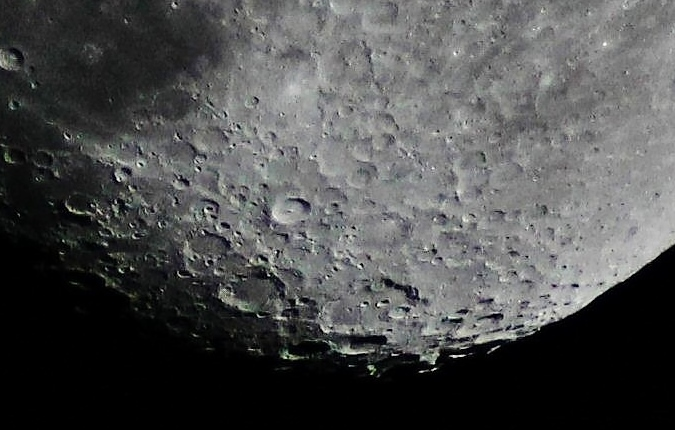crater: (216, 265, 290, 323), (135, 84, 211, 128), (272, 332, 335, 364), (334, 330, 399, 359), (265, 194, 316, 228), (56, 187, 105, 221), (1, 37, 28, 78), (32, 144, 65, 174), (1, 139, 28, 173), (109, 158, 135, 187), (236, 92, 265, 111), (383, 303, 416, 319), (167, 171, 192, 192), (3, 92, 24, 116), (485, 127, 508, 147), (597, 33, 615, 53), (426, 253, 447, 269), (648, 188, 666, 206), (134, 155, 148, 172), (217, 218, 232, 233), (619, 67, 635, 80)
